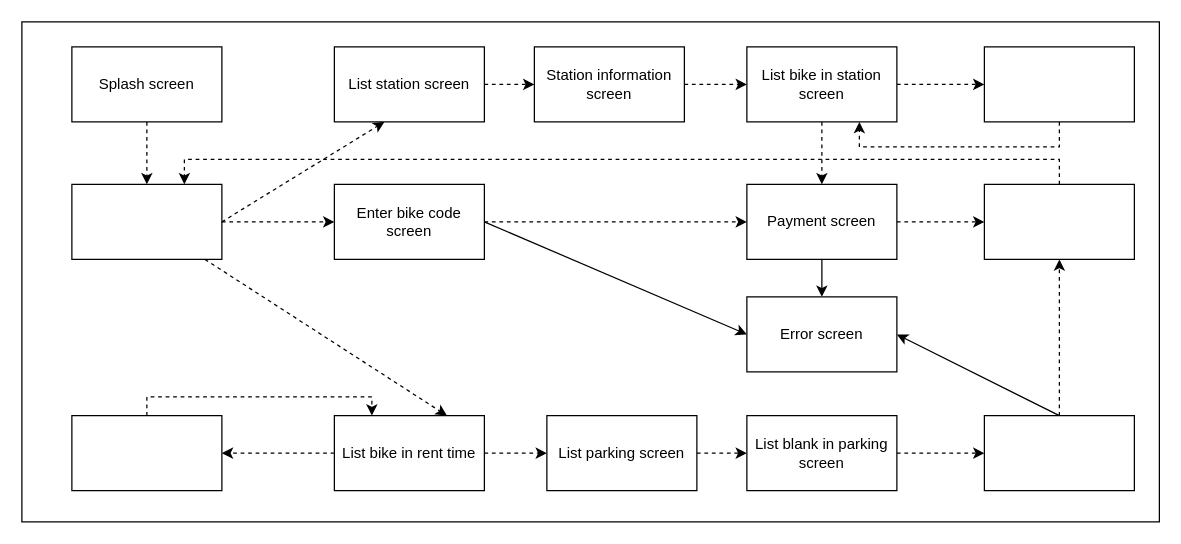
The diagram is 1181 pixels wide and 544 high, and some of its shapes have lost their labels. Each missing label, with the centre of its shape:
"Bike in rent time information screen" goes at point (146, 452).
"Bike in station information screen" goes at point (1058, 84).
"Check right parking screen" goes at point (1058, 452).
"Home screen" goes at point (146, 221).
"Result screen" goes at point (1058, 221).
